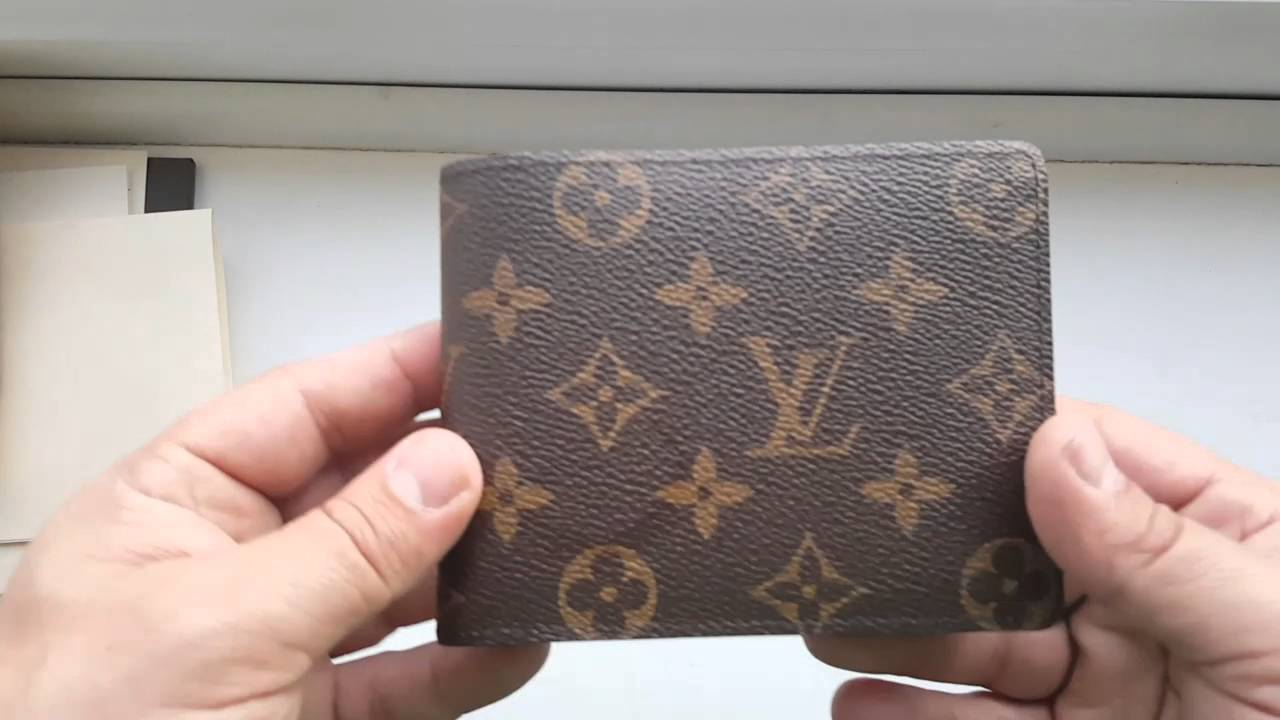monedero: (436, 133, 1069, 647)
